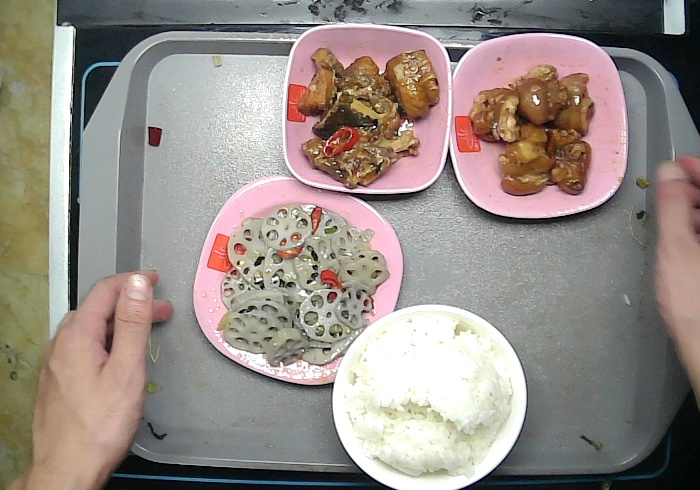SHKJ-Fan_Wan: (327, 303, 529, 490)
SHKJ-Fen_Se_Cai_Die: (448, 32, 631, 221)
SHKJ-Fen_Se_Si_Fang_Cai_Die: (191, 174, 404, 384)
SHKJ-Fen_Se_Xiao_Fang_Die: (281, 22, 453, 195)
